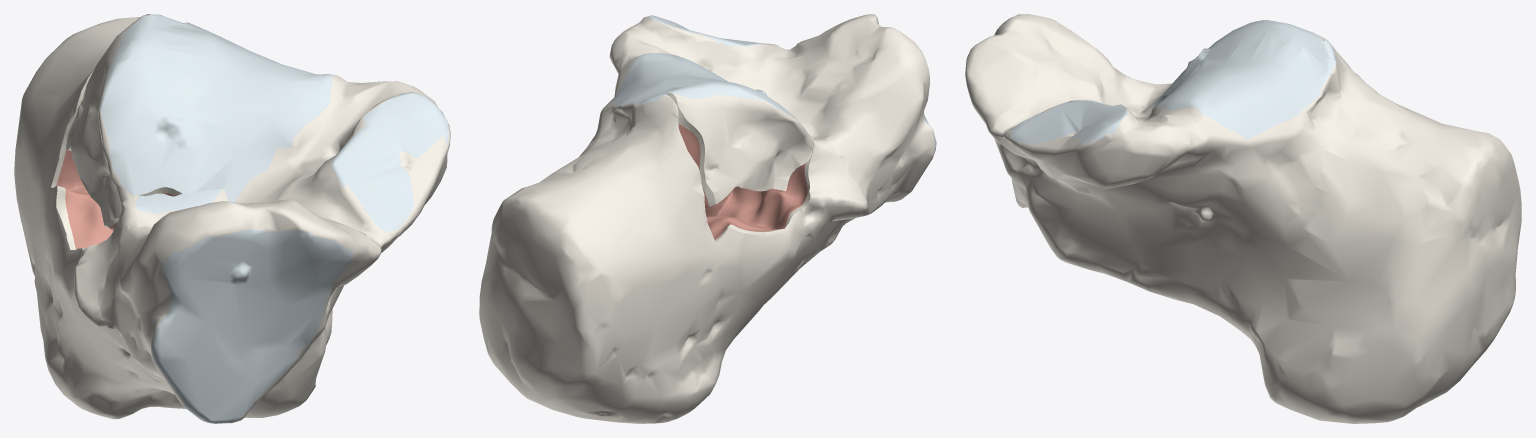
File: 82C1_young.glb
3 views of the same model, side by side, from view 1: azimuth 30°, elevation 25°; view 2: azimuth 150°, elevation 25°; view 3: azimuth 270°, elevation 25° (orthographic). The views are drawn at different scales.
Visible parts, largest first — view 1: calcaneus: sustentacular fragment, calcaneus: tuberosity, calcaneus: depressed lateral column; view 2: calcaneus: tuberosity, calcaneus: sustentacular fragment, calcaneus: depressed lateral column; view 3: calcaneus: sustentacular fragment, calcaneus: tuberosity, calcaneus: depressed lateral column.
Part boxes in pixels (box(x1,y1,x2,y2)): calcaneus: sustentacular fragment: box(99, 17, 450, 423); calcaneus: tuberosity: box(14, 14, 332, 419); calcaneus: depressed lateral column: box(66, 15, 222, 230); calcaneus: tuberosity: box(479, 93, 867, 423); calcaneus: sustentacular fragment: box(588, 14, 936, 246); calcaneus: depressed lateral column: box(656, 78, 812, 208); calcaneus: sustentacular fragment: box(965, 14, 1340, 402); calcaneus: tuberosity: box(1135, 39, 1521, 423); calcaneus: depressed lateral column: box(1162, 20, 1326, 100).
Bounding box in the file's own units: 0.0475 × 0.0513 × 0.0757.
